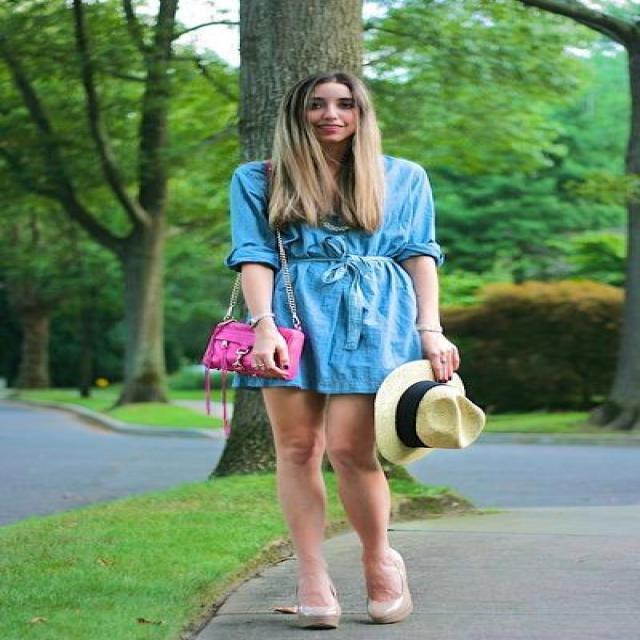bag: (192, 323, 302, 387)
dress: (229, 156, 440, 392)
hat: (373, 360, 485, 472)
shoe: (300, 567, 390, 624)
